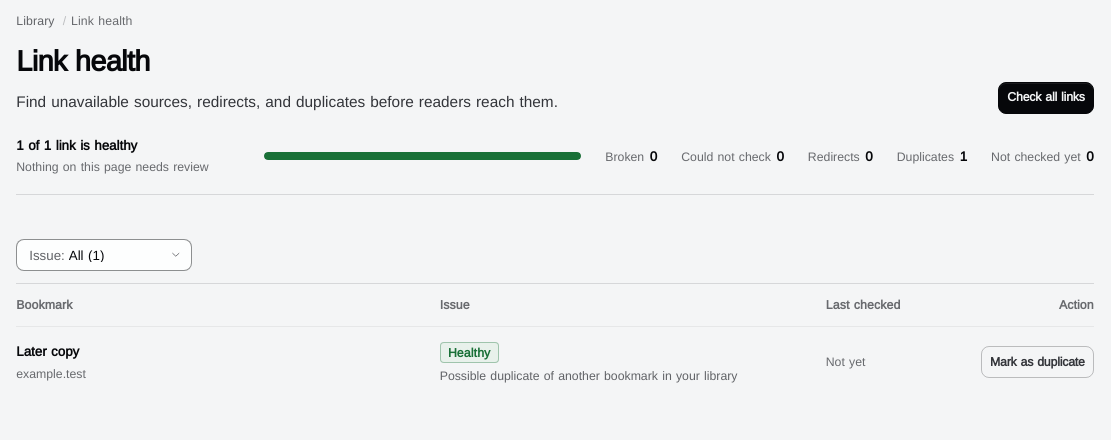
Test: LibraryHealth duplicate review and cannot-probe display › keeps the row and reports the failure in place when the review save fails
The image size is (1111, 440).
What coordinates should you click on to do the following:
click the button "Mark as duplicate"
I would click on:
 (1037, 362)
Its box is [981,346,1094,378].
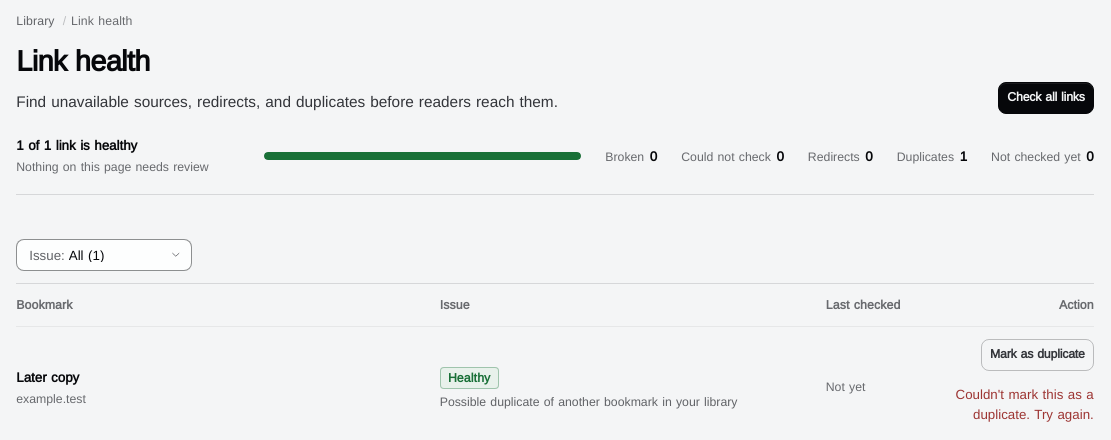
Expected: the text "Later copy" is shown, [16,369,79,385]
Expected: the text "Couldn't mark this as a duplicate. Try again." is shown, [950,384,1094,424]
